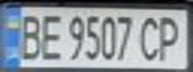0: (100, 12, 118, 62)
5: (81, 11, 103, 61)
7: (115, 12, 139, 61)
9: (63, 11, 84, 61)
B: (12, 10, 45, 61)
C: (136, 12, 163, 62)
E: (36, 10, 63, 61)
P: (154, 12, 187, 62)
